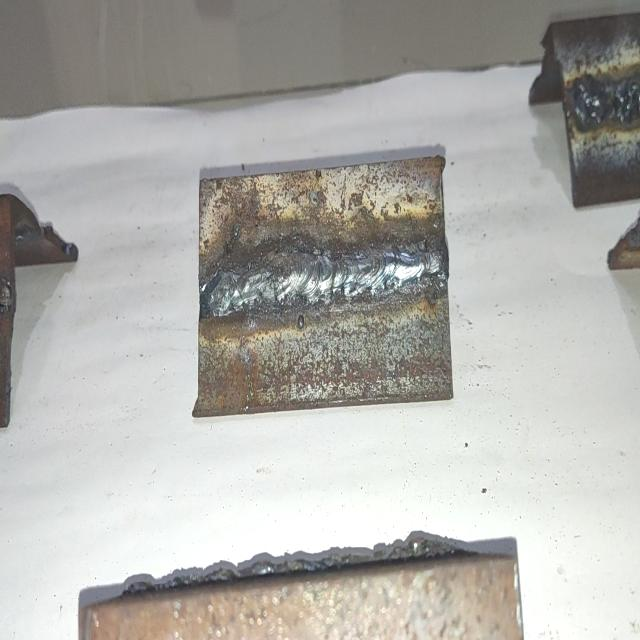Bad Weld: (568, 71, 640, 128)
Defect: (565, 73, 640, 131)
Good Weld: (203, 244, 447, 311)
